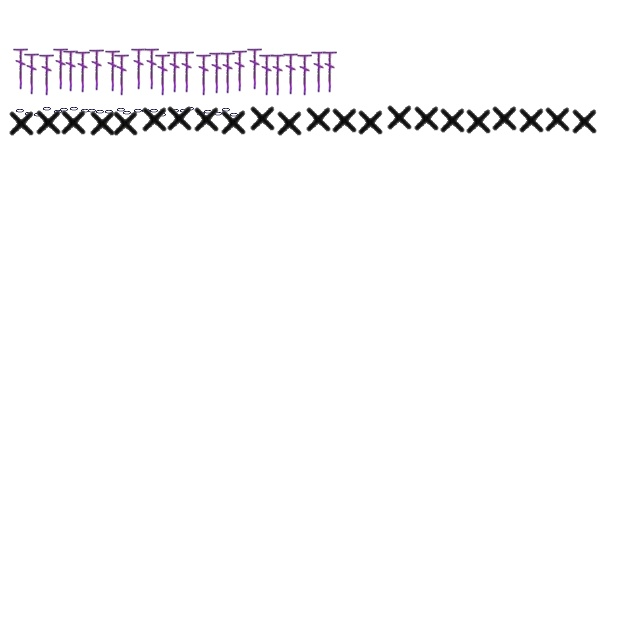chain: (24, 110, 34, 118), (53, 108, 63, 116), (59, 106, 69, 114), (95, 108, 105, 116), (104, 108, 114, 116), (116, 106, 126, 114), (196, 110, 206, 118), (203, 108, 213, 116), (213, 110, 223, 118), (221, 106, 231, 114), (15, 108, 25, 114), (33, 112, 43, 118), (42, 106, 52, 112), (69, 106, 79, 112), (80, 108, 90, 114), (87, 108, 97, 114), (122, 110, 132, 116), (133, 108, 143, 114), (141, 108, 151, 114), (149, 108, 159, 114), (157, 112, 167, 118), (170, 108, 180, 114), (179, 108, 189, 114), (185, 106, 195, 112), (229, 112, 239, 118)
double: (34, 106, 64, 138), (248, 102, 278, 134), (330, 104, 360, 136), (356, 106, 386, 138), (412, 102, 442, 134), (438, 104, 468, 136), (490, 102, 520, 134), (88, 108, 118, 138), (140, 104, 170, 134), (192, 104, 222, 134), (304, 104, 334, 134), (464, 106, 494, 136), (570, 106, 600, 136), (60, 106, 88, 138), (166, 102, 194, 134), (220, 106, 248, 138), (518, 104, 546, 136), (8, 108, 36, 138), (112, 108, 140, 138), (276, 108, 304, 138), (386, 102, 414, 132), (544, 104, 572, 134)
double treble: (24, 51, 40, 95), (114, 52, 130, 96), (144, 46, 160, 90), (196, 52, 212, 96), (220, 50, 236, 94), (232, 48, 248, 92), (270, 52, 286, 96), (322, 49, 338, 93), (14, 46, 28, 90), (40, 52, 54, 96), (54, 46, 68, 90), (64, 48, 78, 92), (76, 49, 90, 93), (90, 47, 104, 91), (106, 48, 120, 92), (132, 46, 146, 90), (156, 52, 170, 96), (168, 49, 182, 93), (180, 49, 194, 93), (210, 50, 224, 94), (248, 46, 262, 90), (260, 52, 274, 96), (284, 51, 298, 95), (298, 52, 312, 96), (312, 49, 326, 93)
